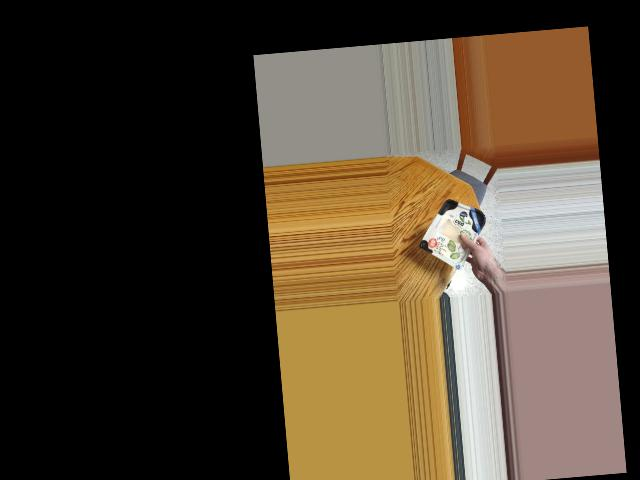cheese: (420, 198, 493, 261)
